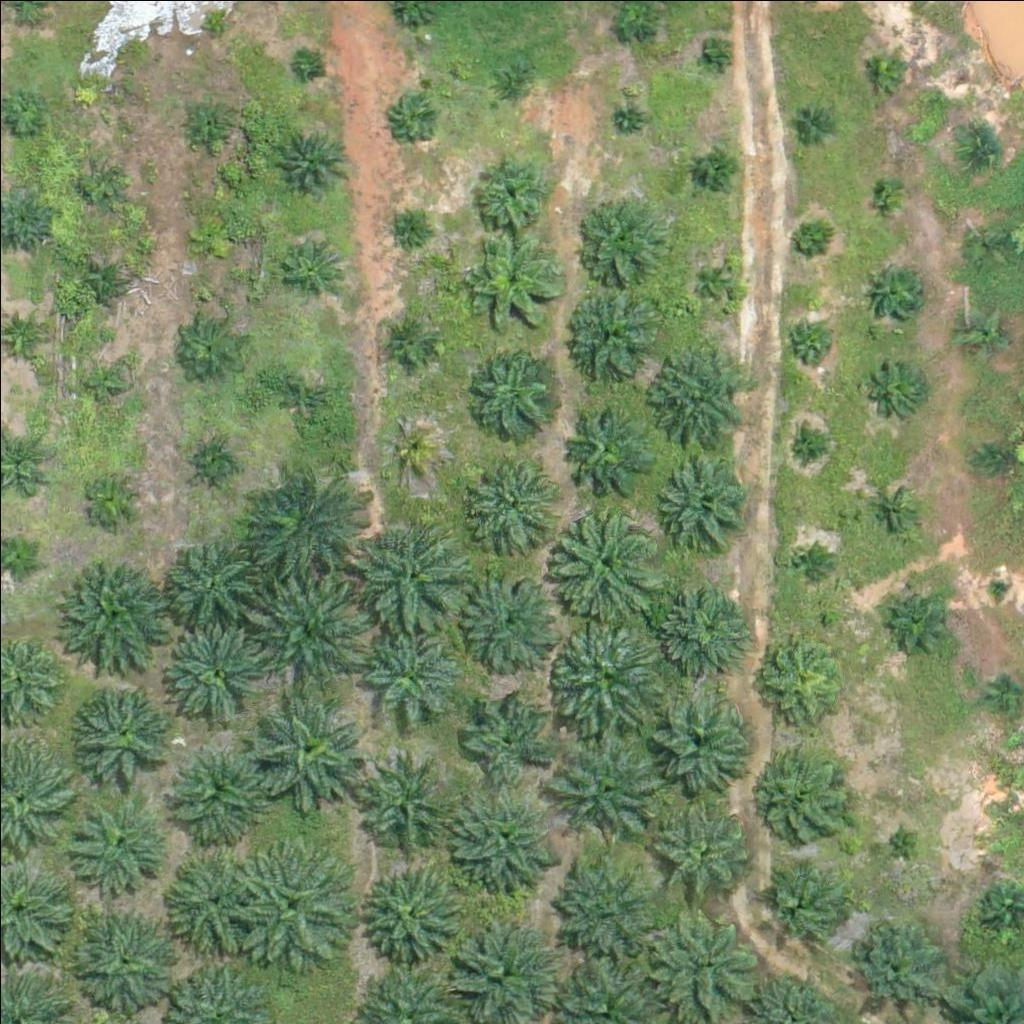Kelapa_Sawit: (231, 840, 356, 966), (246, 570, 371, 696), (238, 459, 363, 585), (545, 613, 670, 738), (545, 494, 670, 619), (59, 551, 172, 665), (350, 514, 463, 627), (445, 779, 558, 892), (548, 848, 661, 961), (551, 730, 664, 843), (159, 621, 271, 735), (249, 701, 361, 815), (647, 903, 759, 1016), (79, 907, 179, 1008), (67, 791, 167, 892), (165, 858, 265, 959), (359, 625, 459, 726), (455, 679, 555, 780), (460, 570, 560, 671), (657, 809, 757, 910), (646, 692, 746, 793), (649, 573, 749, 674), (652, 445, 752, 546), (754, 854, 854, 955), (752, 748, 852, 849), (747, 627, 847, 728), (462, 235, 562, 336), (644, 343, 744, 444), (75, 683, 175, 783), (162, 744, 262, 844), (362, 864, 462, 964), (353, 756, 453, 856), (450, 920, 550, 1020), (461, 453, 549, 542), (467, 147, 555, 235), (165, 536, 253, 624), (576, 198, 664, 286), (564, 290, 652, 378), (557, 403, 645, 491), (852, 921, 939, 1010), (468, 358, 555, 446), (274, 123, 349, 199), (889, 584, 952, 647), (82, 468, 145, 531), (71, 351, 134, 414), (179, 313, 241, 376), (279, 234, 341, 297), (863, 257, 925, 320), (275, 364, 337, 427), (74, 255, 124, 306), (872, 366, 922, 417), (73, 161, 123, 212), (194, 434, 244, 485), (185, 215, 235, 266), (859, 42, 909, 93), (956, 309, 1006, 360), (384, 318, 434, 368), (179, 95, 229, 145), (390, 89, 440, 139), (483, 57, 533, 107), (691, 147, 741, 197), (383, 418, 433, 468), (688, 256, 738, 306), (783, 320, 833, 370), (978, 437, 1016, 475), (881, 821, 919, 859), (784, 543, 822, 581), (868, 171, 906, 208), (791, 426, 828, 464), (873, 493, 910, 531), (961, 225, 999, 262), (789, 222, 826, 260), (793, 99, 830, 136), (961, 127, 998, 164), (295, 50, 320, 76), (202, 13, 227, 38), (704, 41, 729, 66), (394, 215, 419, 240), (985, 576, 1010, 601), (617, 105, 641, 130)
